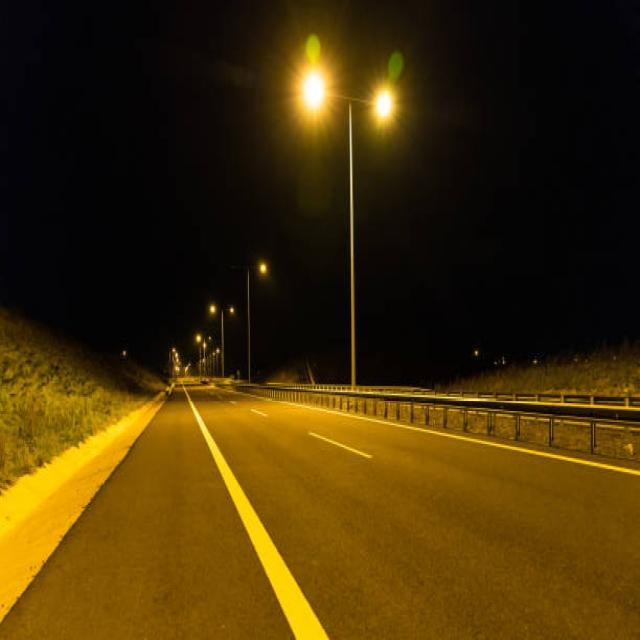acesa: (288, 56, 342, 126), (367, 82, 403, 136)
